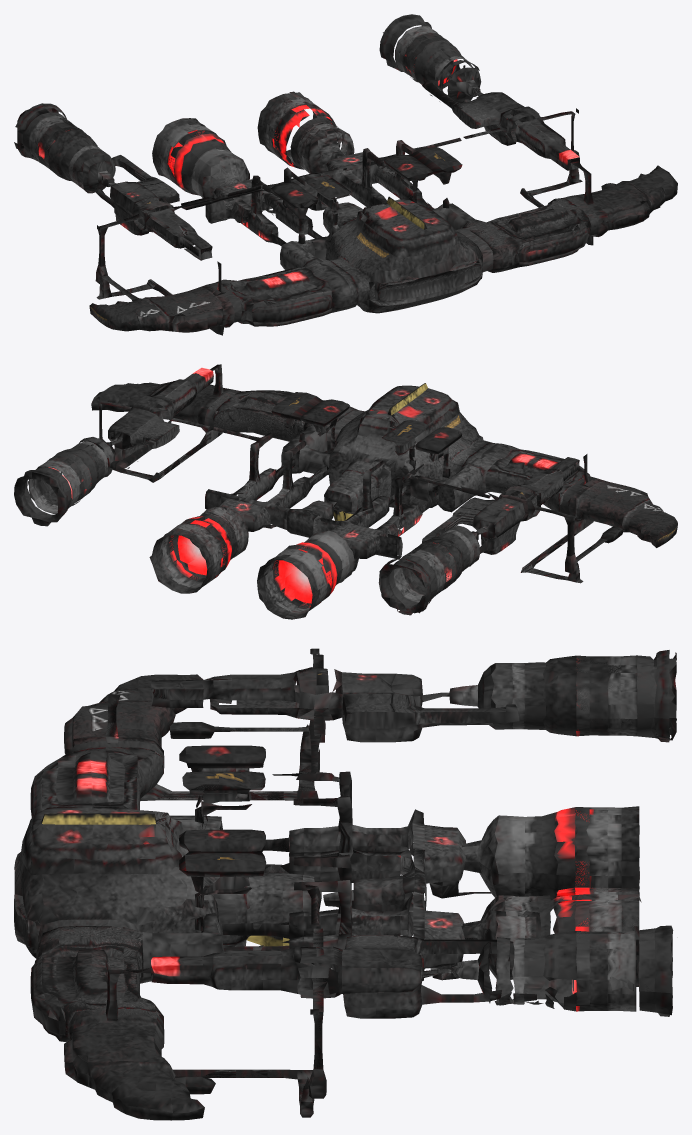
Rendered from dreadnought.glb.
3 renders of one model, top to bottom at view 1: azimuth 30°, elevation 25°; view 2: azimuth 150°, elevation 25°; view 3: azimuth 270°, elevation 25°, orthographic. The views are drawn at different scales.
Visible parts, largest first — view 1: Subdivision_Surface_1; view 2: Subdivision_Surface_1; view 3: Subdivision_Surface_1.
Boxes of the visible parts, bbox=[...] form: Subdivision_Surface_1: bbox=[14, 14, 677, 335]; Subdivision_Surface_1: bbox=[14, 364, 677, 619]; Subdivision_Surface_1: bbox=[14, 648, 676, 1120].
Size of the model in its own units: 5.78 by 1.04 by 3.77.
Materials: 1 (1 with a texture image).
